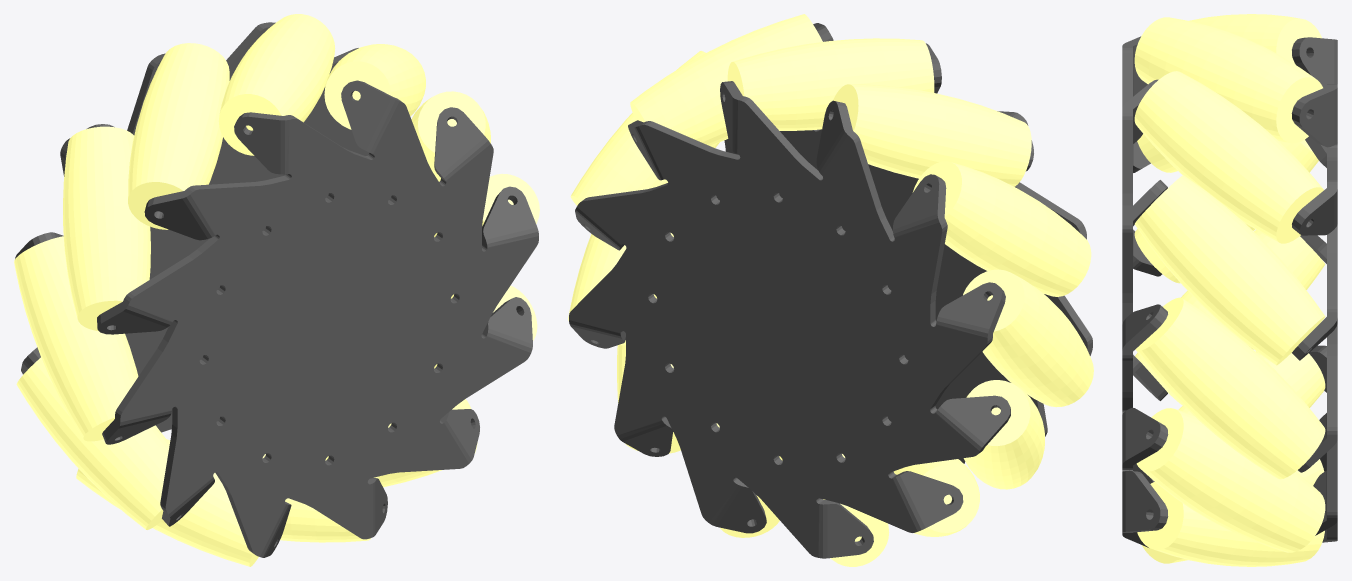
File: wheel_BR.dae
The picture shows the model from 3 angles, left to right: view 1: azimuth 30°, elevation 25°; view 2: azimuth 150°, elevation 25°; view 3: azimuth 270°, elevation 25°; orthographic projection. The views are drawn at different scales.
Visible parts, largest first — view 1: mecawheelA__llantas__1_, mecawheelA__rollers_; view 2: mecawheelA__llantas__1_, mecawheelA__rollers_; view 3: mecawheelA__rollers_, mecawheelA__llantas__1_.
Boxes of the visible parts, x1,y1,x2,y2 form: mecawheelA__llantas__1_: (15, 22, 538, 557); mecawheelA__rollers_: (14, 14, 539, 566); mecawheelA__llantas__1_: (569, 23, 1092, 558); mecawheelA__rollers_: (568, 14, 1093, 566); mecawheelA__rollers_: (1134, 14, 1325, 566); mecawheelA__llantas__1_: (1122, 36, 1337, 547).
Size of the model in its own units: 0.254 by 0.099 by 0.254.
